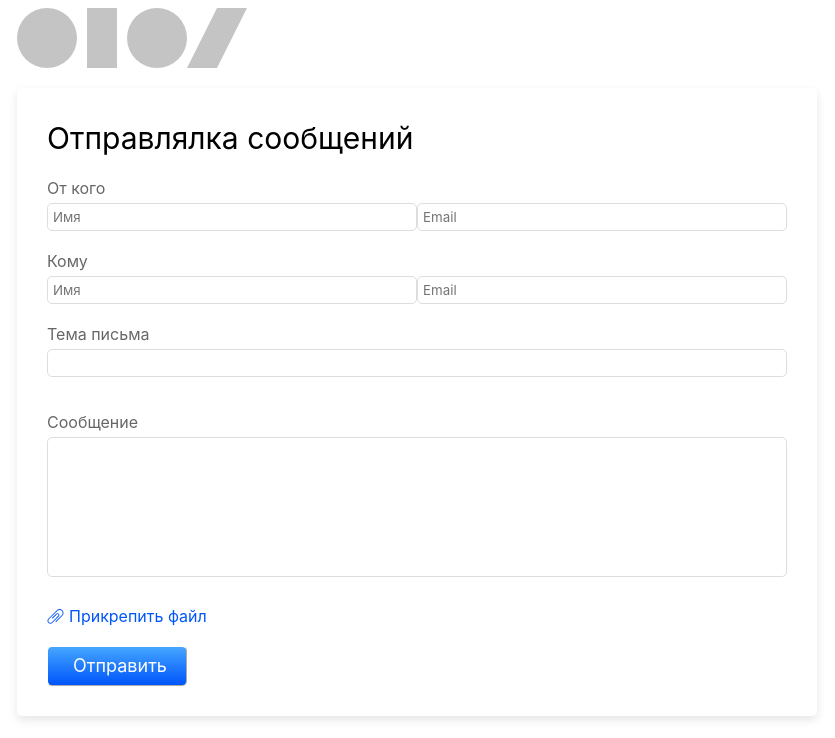
Test case: Тестируем форму отправки email › Проверка полей и функционала добавления файлов › Показывается ошибка, если email некорректен
The image size is (835, 738).
Type "wrong" into the field with id "senderEmail" at [602, 217], box [417,203,787,231]
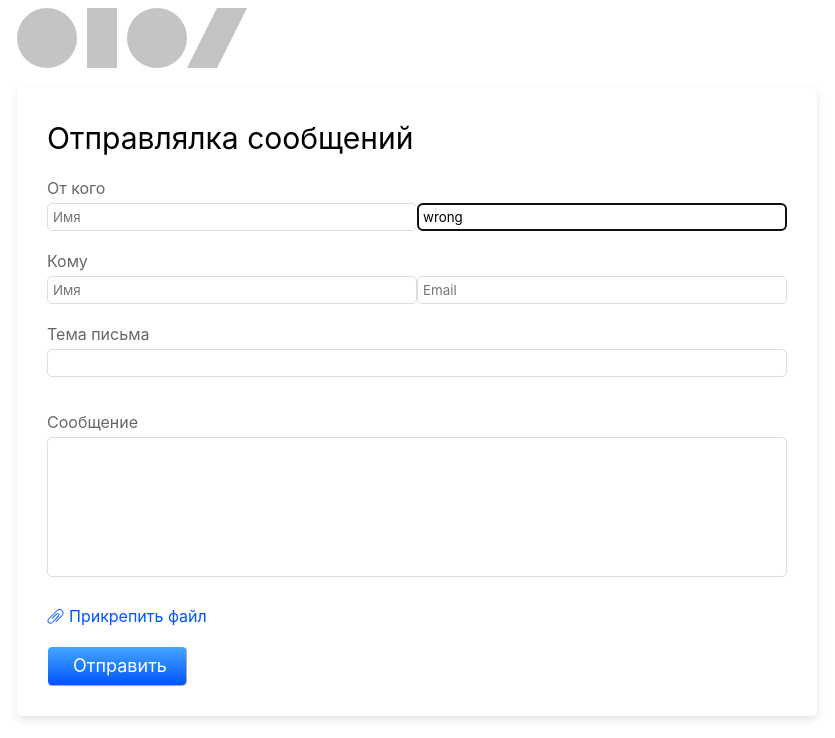
Type "wrong" into the field with id "receiverEmail" at [602, 290], box [417,276,787,304]
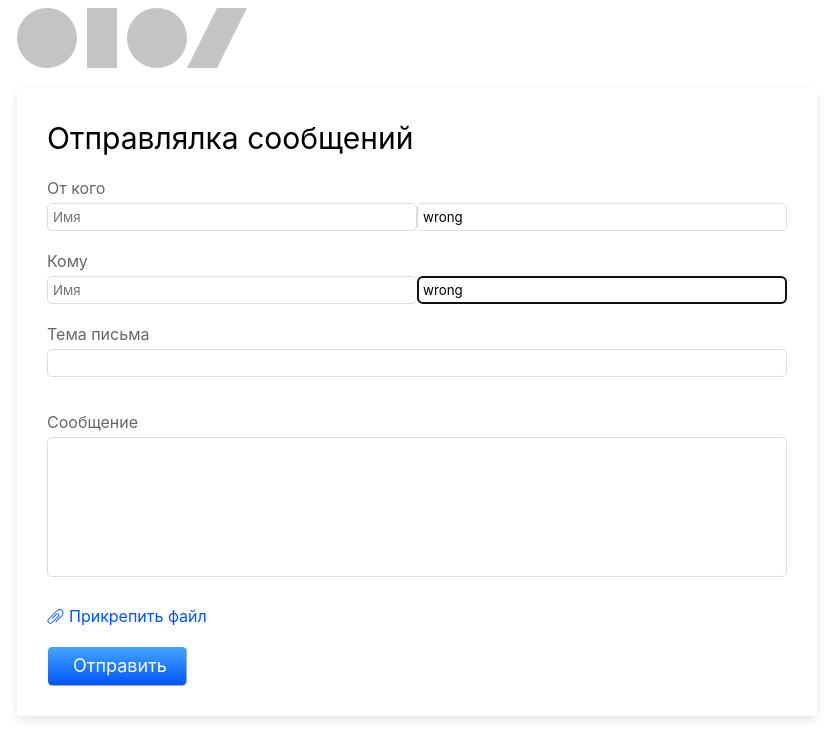
Click the submit button at [117, 666], box [47,646,187,686]
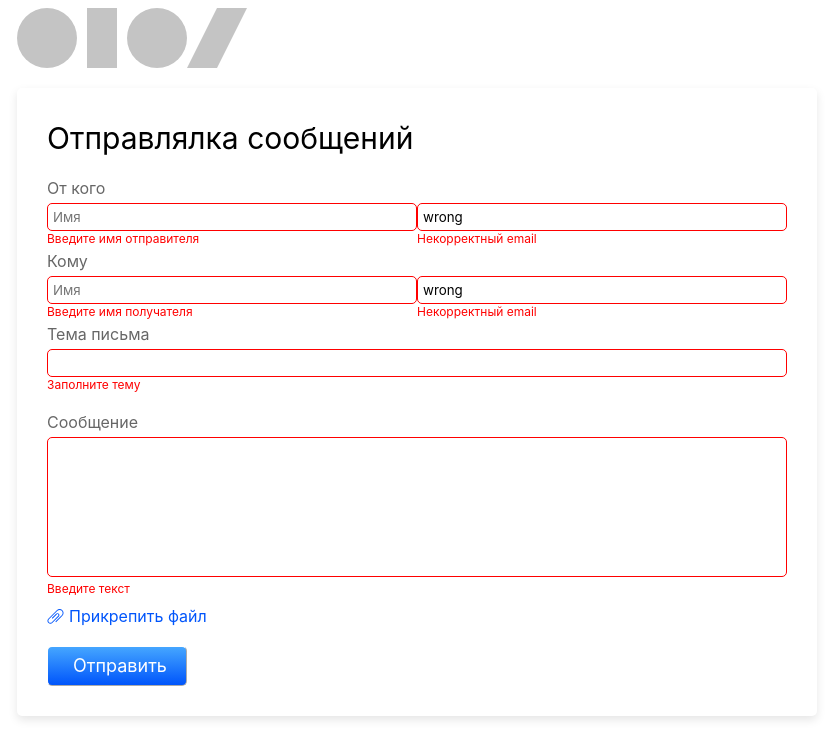
expect the text "Некорректный email" in the row of "Введите имя отправителя" is shown: met, box [417,231,537,246]
expect the text "Некорректный email" in the row of "Введите имя получателя" is shown: met, box [417,304,537,319]
